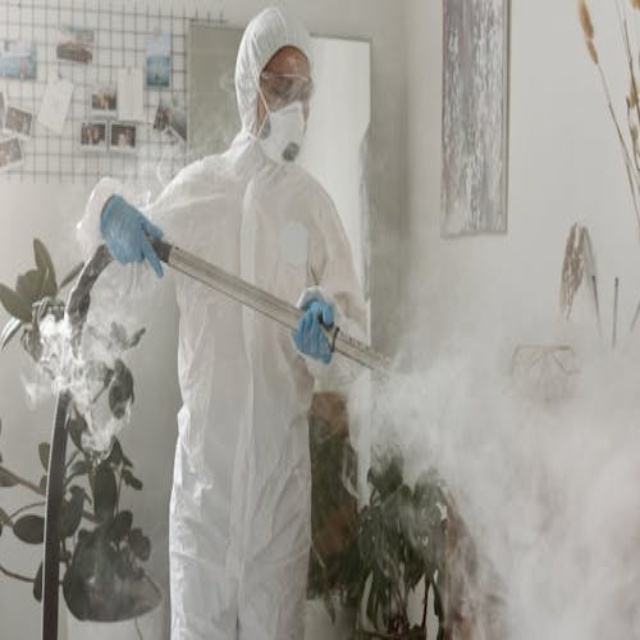Gafas: (259, 69, 312, 108)
Guantes: (100, 194, 165, 277), (292, 291, 337, 364)
Mascara: (257, 95, 308, 167)
